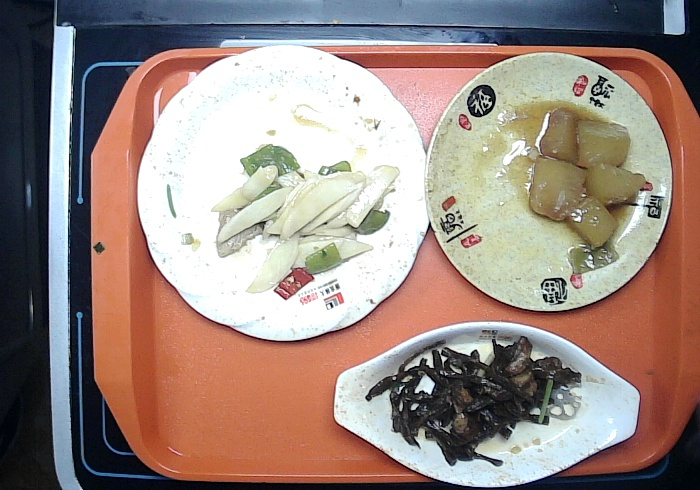NLDX-Bai_Zhe_Yuan_Pan: (136, 44, 433, 343)
NLDX-Fu_Zi_Yuan_Pan: (425, 50, 676, 314)
NLDX-Yu_Pan: (330, 319, 641, 490)
